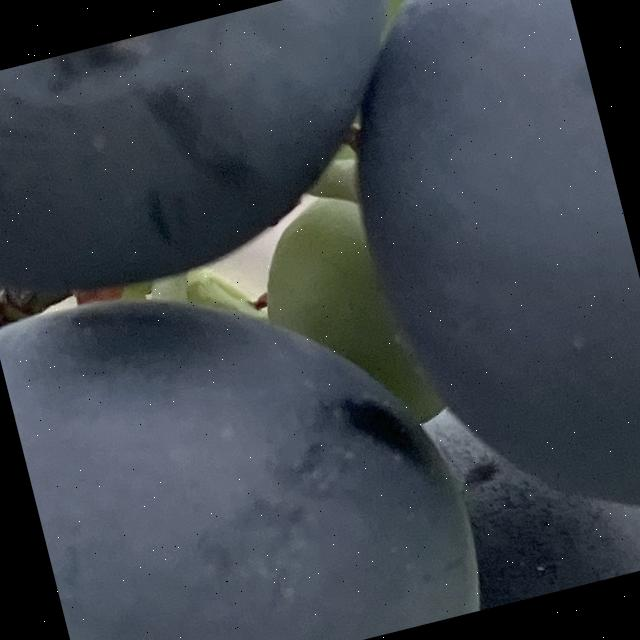Blueberries: (0, 211, 499, 640), (303, 0, 640, 571), (0, 0, 464, 317)
